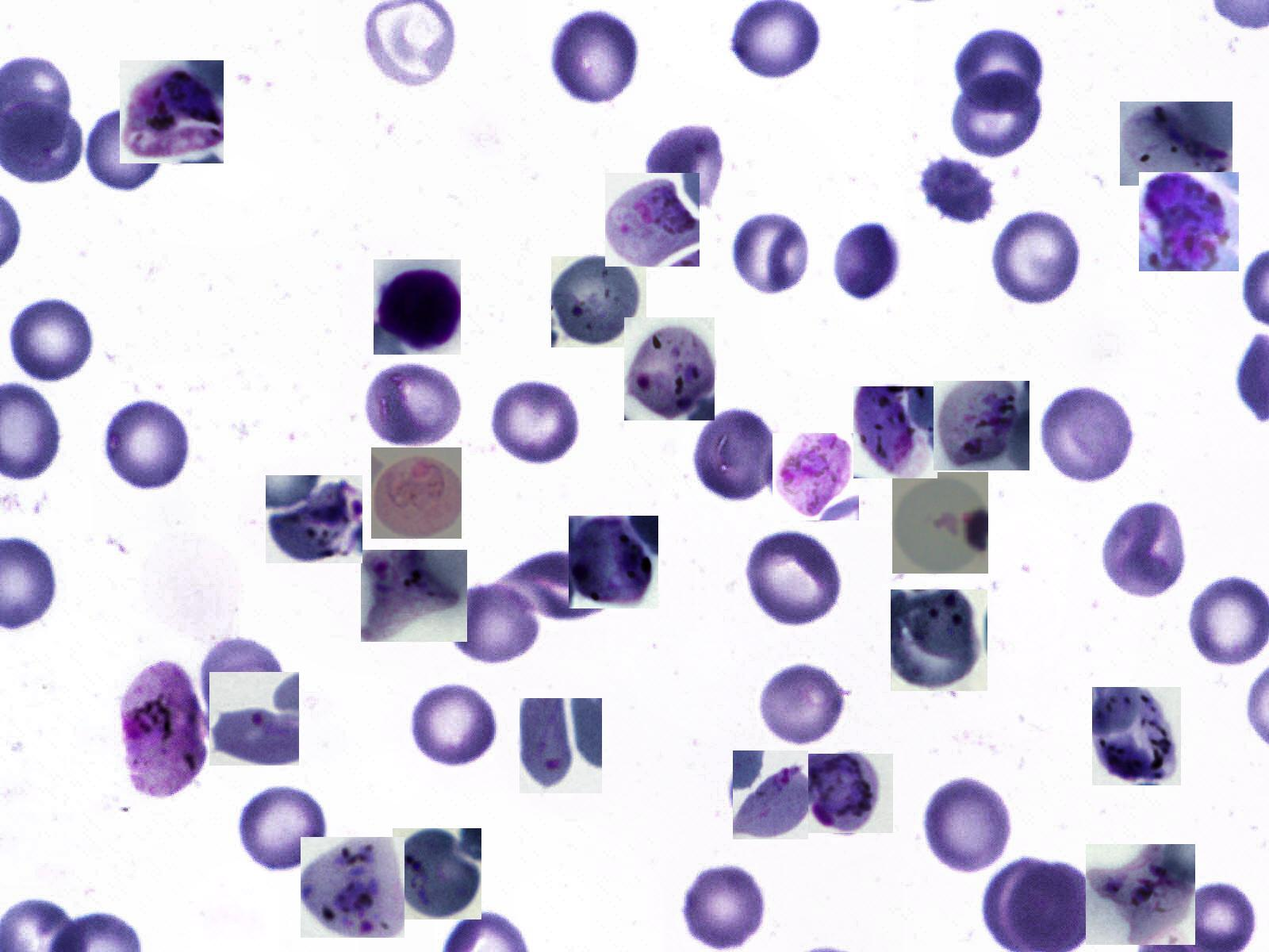Infected: (124, 652, 213, 802), (1086, 844, 1195, 945), (120, 60, 224, 163), (301, 837, 404, 938), (1139, 172, 1239, 271), (891, 589, 987, 691), (892, 472, 988, 574), (361, 550, 467, 642), (1120, 102, 1233, 186), (625, 317, 715, 420), (605, 173, 700, 267), (1092, 687, 1181, 785), (551, 256, 646, 347), (209, 672, 299, 766), (934, 381, 1029, 470), (266, 475, 362, 563), (371, 447, 462, 539), (374, 260, 461, 355), (569, 516, 658, 608), (393, 828, 481, 919), (519, 698, 602, 793), (853, 386, 937, 478), (773, 433, 859, 520), (807, 754, 893, 833), (733, 750, 808, 839)
Uninfected: (500, 546, 638, 622), (922, 770, 1016, 877), (1039, 384, 1139, 484), (992, 206, 1086, 307), (688, 405, 782, 506), (1102, 497, 1192, 601), (950, 68, 1046, 163), (549, 8, 641, 107), (950, 25, 1045, 120), (362, 359, 462, 449), (234, 781, 334, 871), (748, 532, 842, 625), (103, 397, 194, 492), (487, 374, 582, 465), (681, 858, 769, 951), (408, 682, 500, 770), (446, 578, 539, 665), (197, 637, 286, 726), (642, 121, 729, 212), (758, 662, 847, 748), (84, 106, 167, 194), (8, 298, 96, 379), (731, 208, 809, 295), (914, 151, 996, 228), (826, 221, 903, 302)
